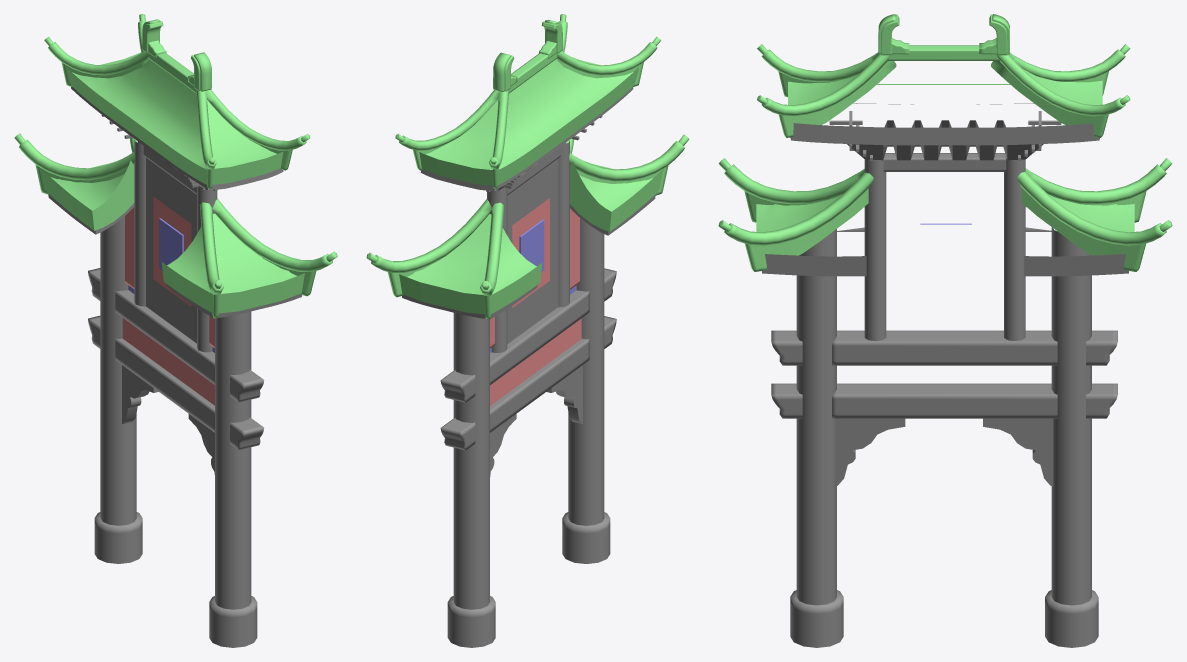
Rendered from CHN_GateSmall01.gltf.
3 views of the same model, side by side, from view 1: azimuth 30°, elevation 25°; view 2: azimuth 150°, elevation 25°; view 3: azimuth 270°, elevation 25° (orthographic). The views are drawn at different scales.
Visible parts, largest first — view 1: CHN_GateSmall01; view 2: CHN_GateSmall01; view 3: CHN_GateSmall01.
Boxes of the visible parts, left/top/right/bottom form: CHN_GateSmall01: left=14, top=14, right=337, bottom=647; CHN_GateSmall01: left=366, top=14, right=689, bottom=647; CHN_GateSmall01: left=718, top=14, right=1172, bottom=647.
Bounding box in the file's own units: 5.77 × 25.2 × 16.72.
